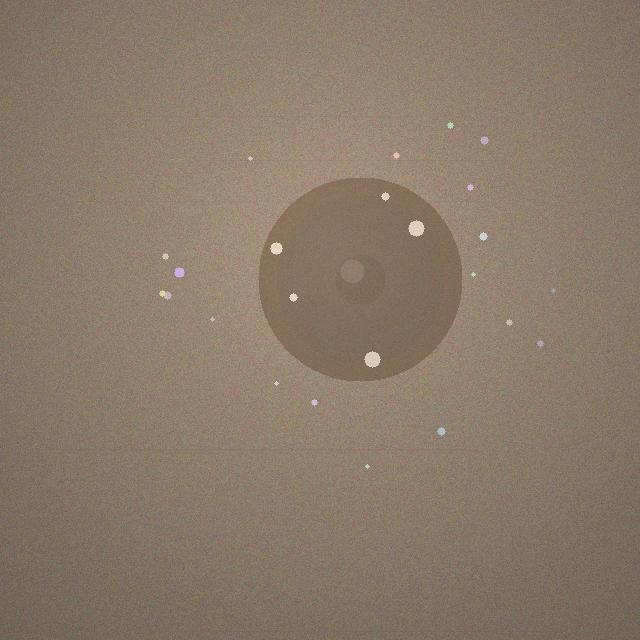overburn: (258, 177, 462, 381)
